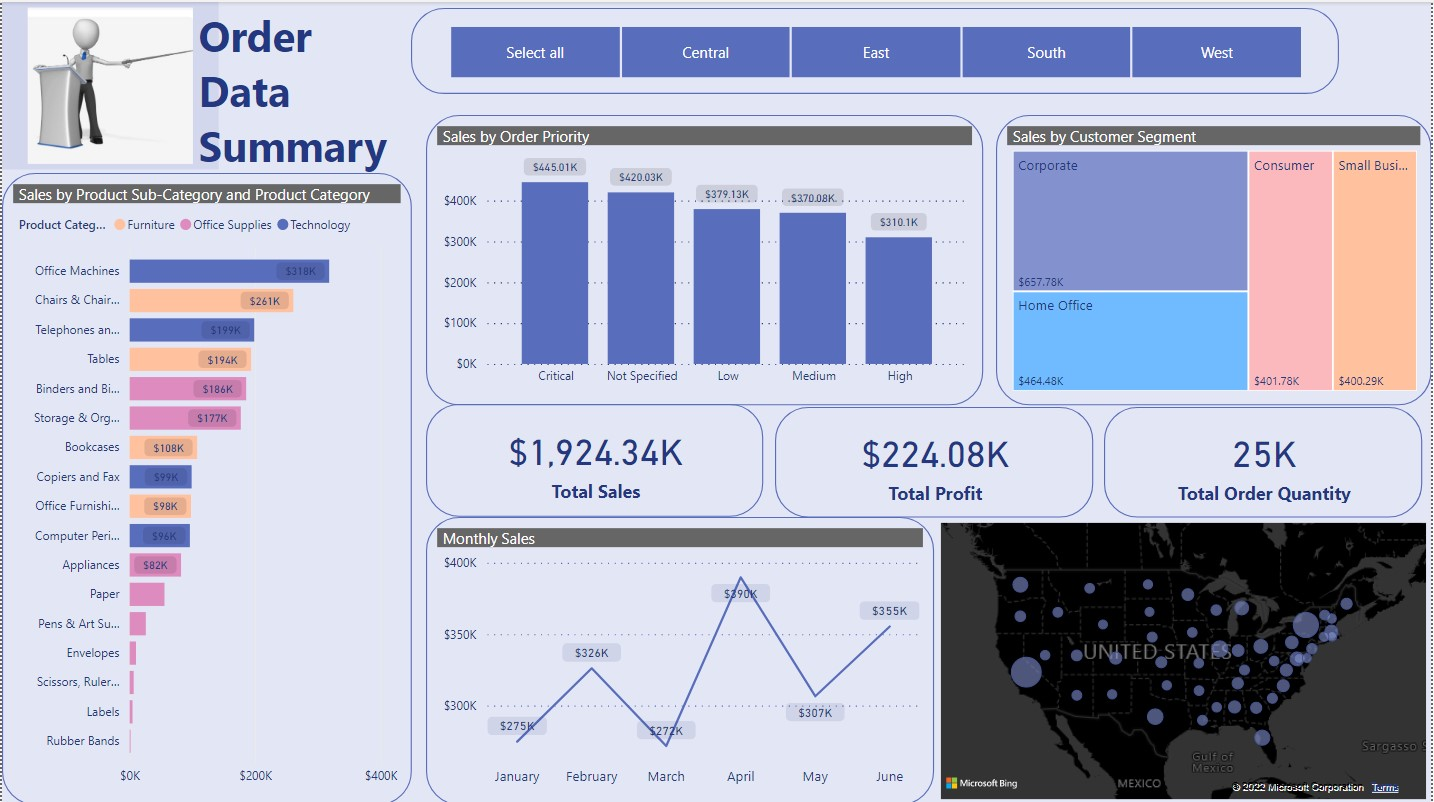

Layout of this report page (visuals, bound fields, positions):
{"tool":"powerbi","page":{"name":"Page 1","canvas":[1280,720],"ordinal":0},"visuals":[{"type":"slicer","fields":{"Values":["Orders.Region"]},"box":[366.6,5.1,831,77.2],"z":1},{"type":"lineChart","title":"Monthly Sales","fields":{"Y":["Sum(Orders.Sales)"],"Category":["Orders.Order Date.Variation.Date Hierarchy.Month"]},"box":[380,461.3,455.2,258.5],"z":2},{"type":"card","fields":{"Values":["Sum(Orders.Profit)"]},"box":[692,362.5,285.2,98.9],"z":3},{"type":"treemap","fields":{"Group":["Orders.Customer Segment"],"Values":["Sum(Orders.Sales)"]},"box":[889.7,100.9,390.3,259.5],"z":4},{"type":"clusteredColumnChart","fields":{"Y":["Sum(Orders.Sales)"],"Category":["Orders.Order Priority"]},"box":[380,100.9,499.4,259.5],"z":5},{"type":"barChart","fields":{"Category":["Orders.Product Sub-Category"],"Y":["Sum(Orders.Sales)"],"Series":["Orders.Product Category"]},"box":[0,153.4,366.6,566.4],"z":6},{"type":"card","fields":{"Values":["Sum(Orders.Quantity ordered new)"]},"box":[986.5,362.5,285.2,98.9],"z":7},{"type":"card","fields":{"Values":["Sum(Orders.Sales)"]},"box":[380,360.4,301.7,100.9],"z":8},{"type":"map","fields":{"Category":["Orders.State or Province"],"Size":["Sum(Orders.Sales)"]},"box":[835.1,461.3,444.9,258.5],"z":10},{"type":"image","box":[0,0,193.6,150.3],"z":12},{"type":"textbox","box":[170.9,0,195.7,163.7],"z":13}]}

Visuals, with their boxes in screenshot pixels (x1, y1, x2, y2), scaled from the page's 1280x720 canvas onto the 1434x802 screenshot:
slicer - Orders.Region: rect(411, 6, 1342, 92)
"Monthly Sales" lineChart: rect(426, 514, 936, 801)
card - Sum(Orders.Profit): rect(775, 404, 1095, 514)
treemap - Orders.Customer Segment x Sum(Orders.Sales): rect(997, 112, 1433, 401)
clusteredColumnChart - Sum(Orders.Sales) x Orders.Order Priority: rect(426, 112, 985, 401)
barChart - Orders.Product Sub-Category x Sum(Orders.Sales): rect(0, 171, 411, 801)
card - Sum(Orders.Quantity ordered new): rect(1105, 404, 1425, 514)
card - Sum(Orders.Sales): rect(426, 401, 764, 514)
map - Orders.State or Province x Sum(Orders.Sales): rect(936, 514, 1433, 801)
image: rect(0, 0, 217, 167)
textbox: rect(191, 0, 411, 182)
